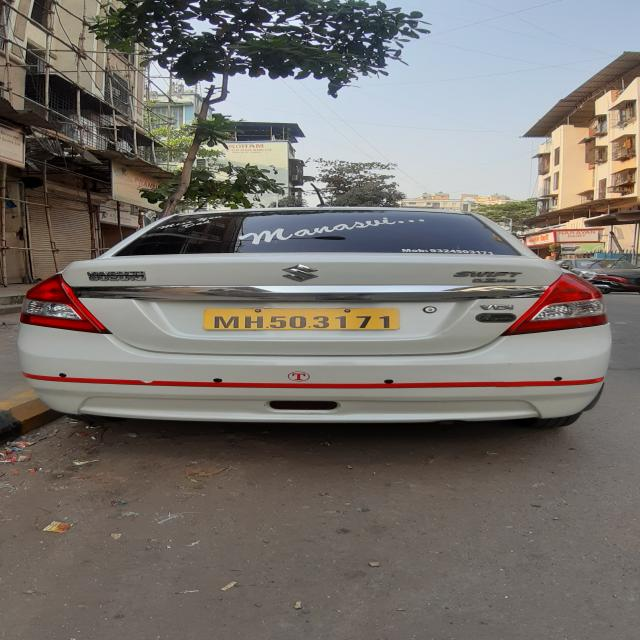Number-Plate: (208, 308, 402, 331)
